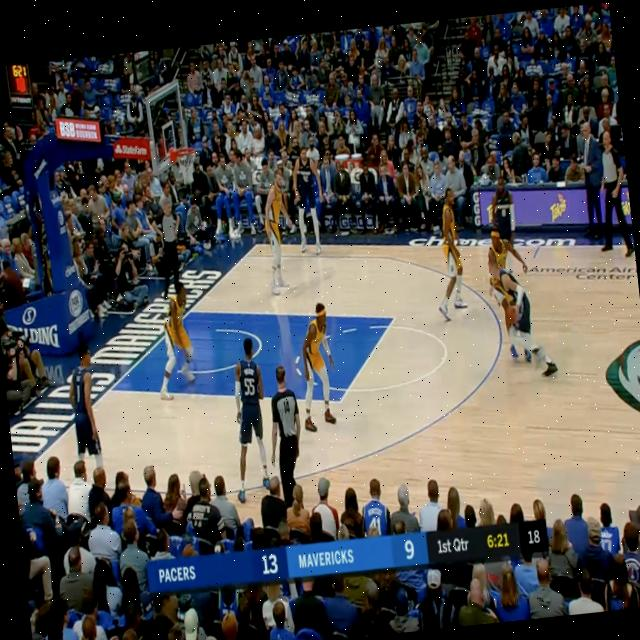no foul: (475, 223, 564, 382)
